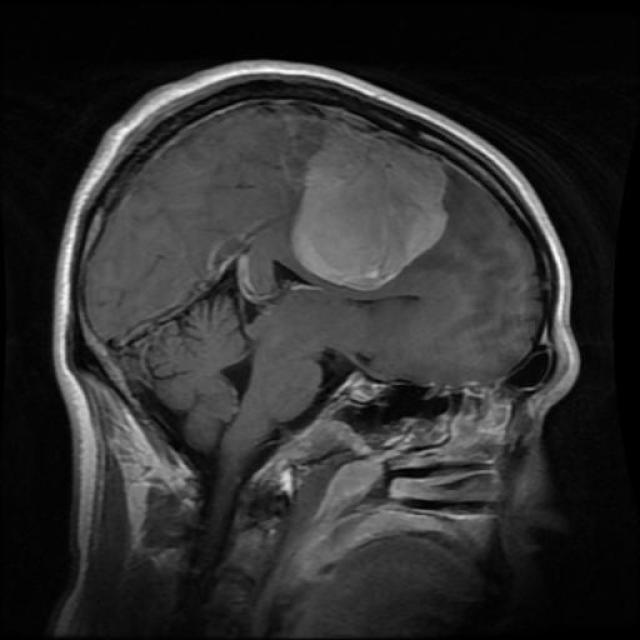meningioma: (290, 121, 449, 292)
